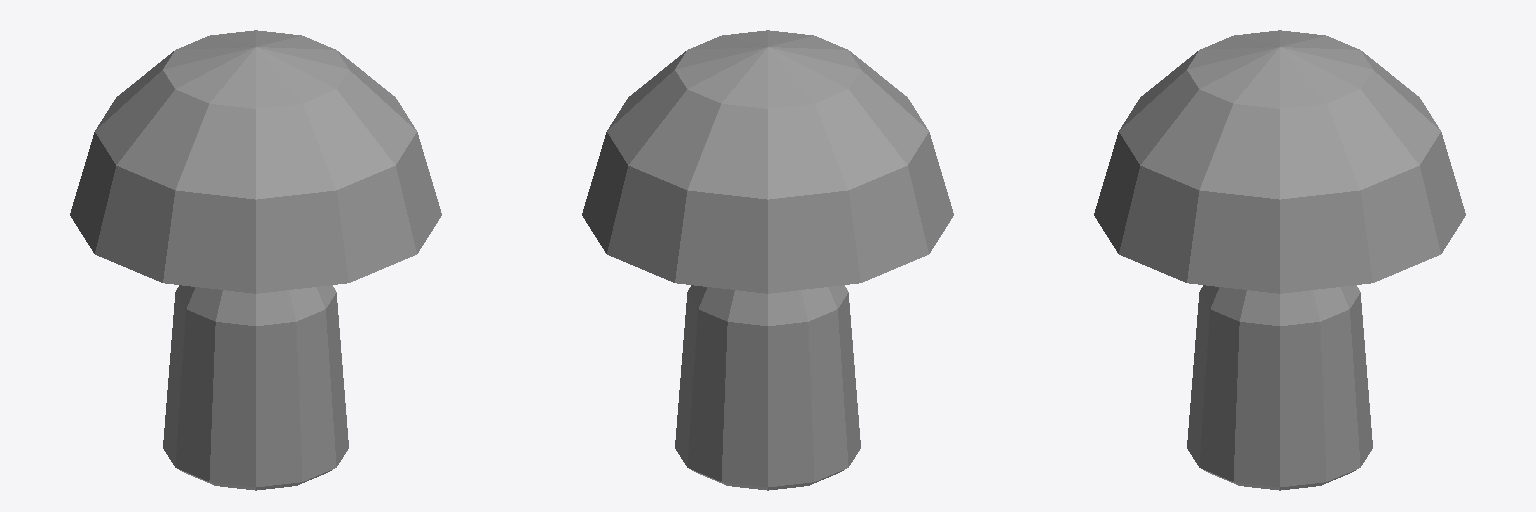
Rendered from mushroomg2.obj.
3 views of the same model, side by side, from view 1: azimuth 30°, elevation 25°; view 2: azimuth 150°, elevation 25°; view 3: azimuth 270°, elevation 25° (orthographic).
Parts seen in each view (by area): view 1: Sphere.001; view 2: Sphere.001; view 3: Sphere.001.
Boxes of the visible parts, x1=… form: Sphere.001: x1=70, y1=30, x2=441, y2=490; Sphere.001: x1=582, y1=30, x2=953, y2=490; Sphere.001: x1=1094, y1=30, x2=1465, y2=490.
Size of the model in its own units: 0.2 by 0.2476 by 0.2.